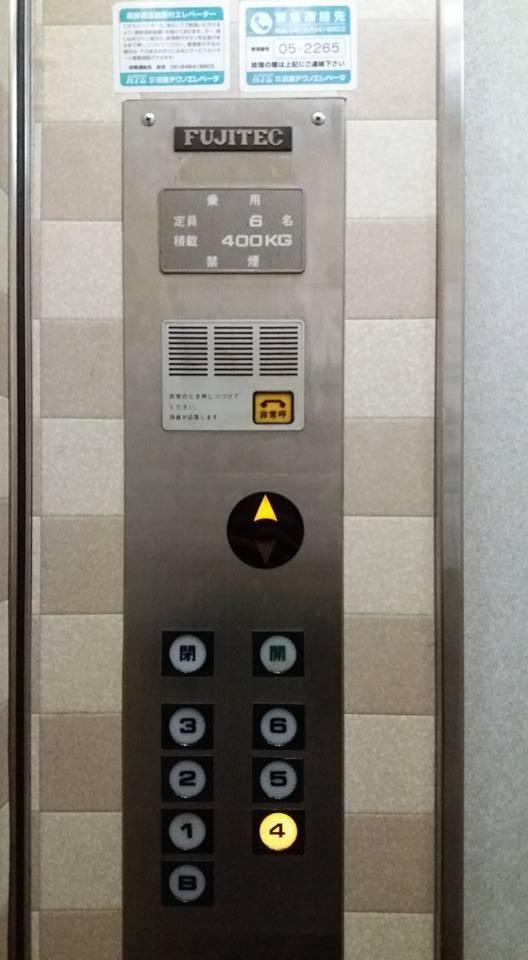1: (158, 804, 216, 855)
2: (158, 751, 216, 804)
3: (158, 699, 216, 752)
4: (249, 803, 306, 856)
5: (249, 751, 306, 802)
6: (249, 700, 306, 750)
B: (158, 856, 216, 906)
call: (250, 387, 294, 423)
close: (248, 627, 304, 679)
led: (223, 487, 306, 568)
open: (157, 628, 216, 679)
